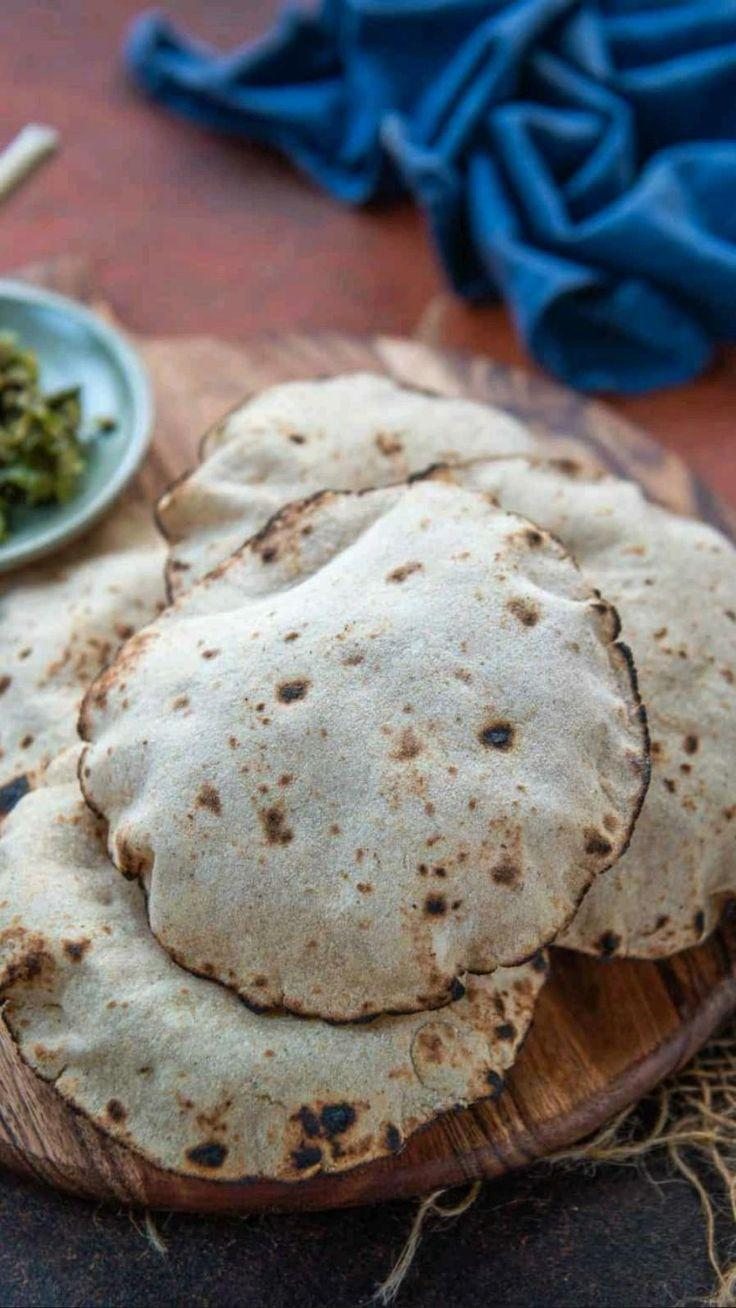roti phulka: (0, 578, 736, 1181)
